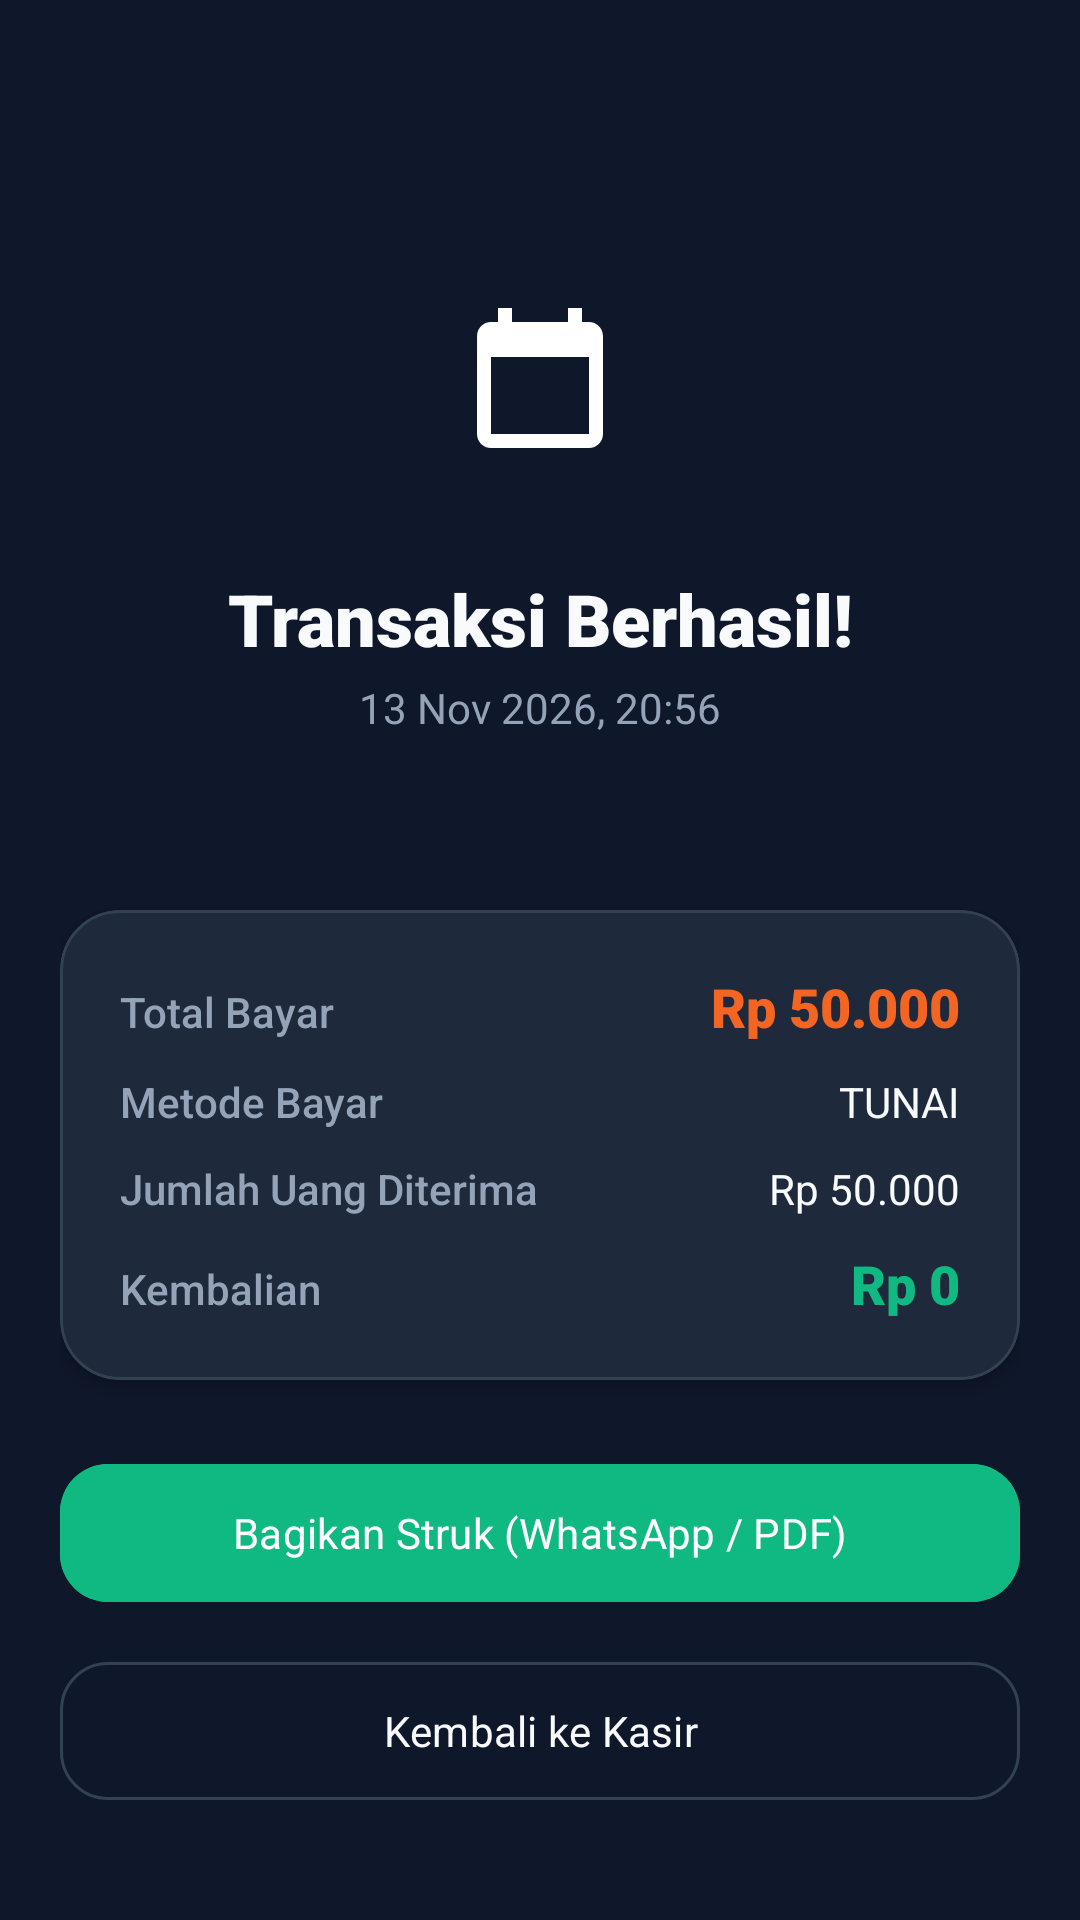

Point at icon controls on the screen. Image size 1080x1920, points as [x,y].
today: [540,378]
